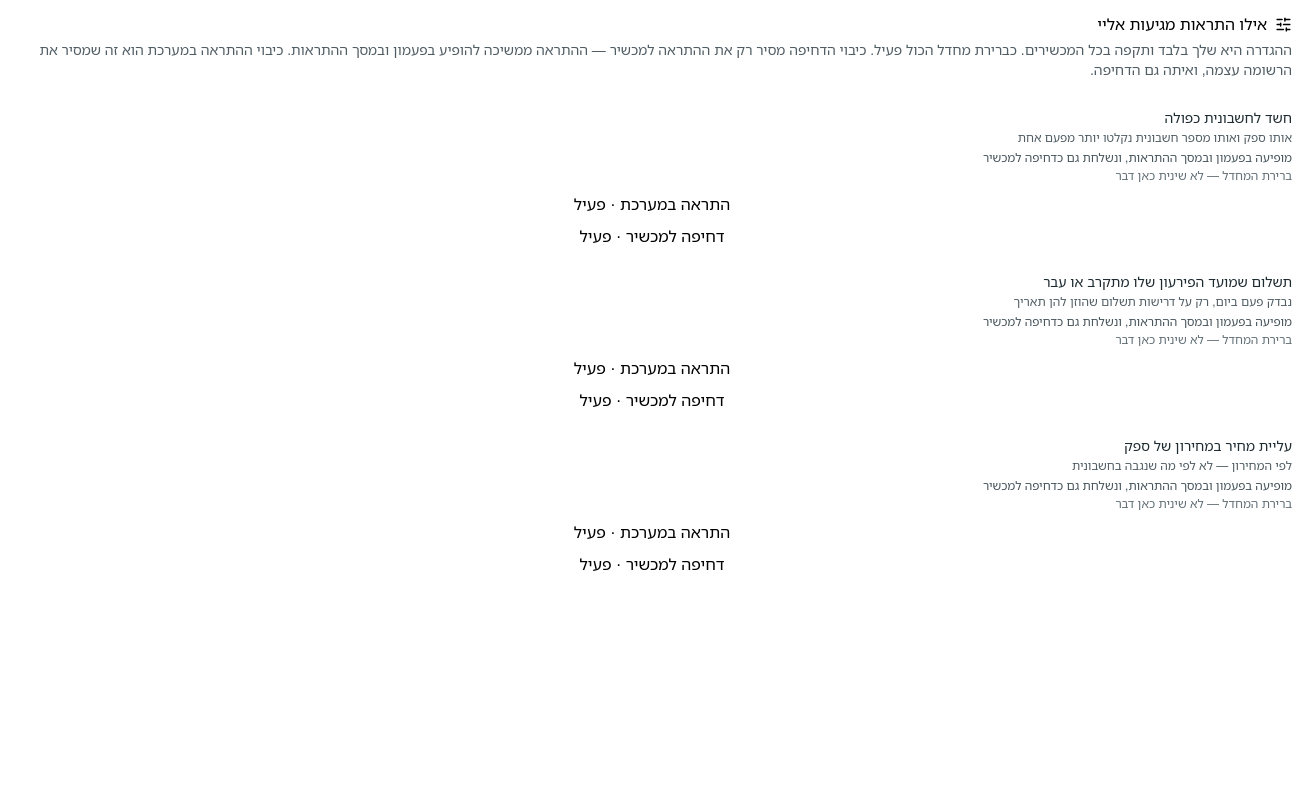
Scenario: NotificationMatrix — per-event delivery preferences (migration 0068) › reports a rejected write in Hebrew and leaves the switch where it was
This screenshot has width=1304, height=812.
Check: the text "חשד לחשבונית כפולה" is shown, box [1165, 108, 1292, 127]
Step 1. Click the switch labelled "דחיפה למכשיר · פעיל" below "חשד לחשבונית כפולה" → x=652, y=236, box [12, 224, 1292, 248]
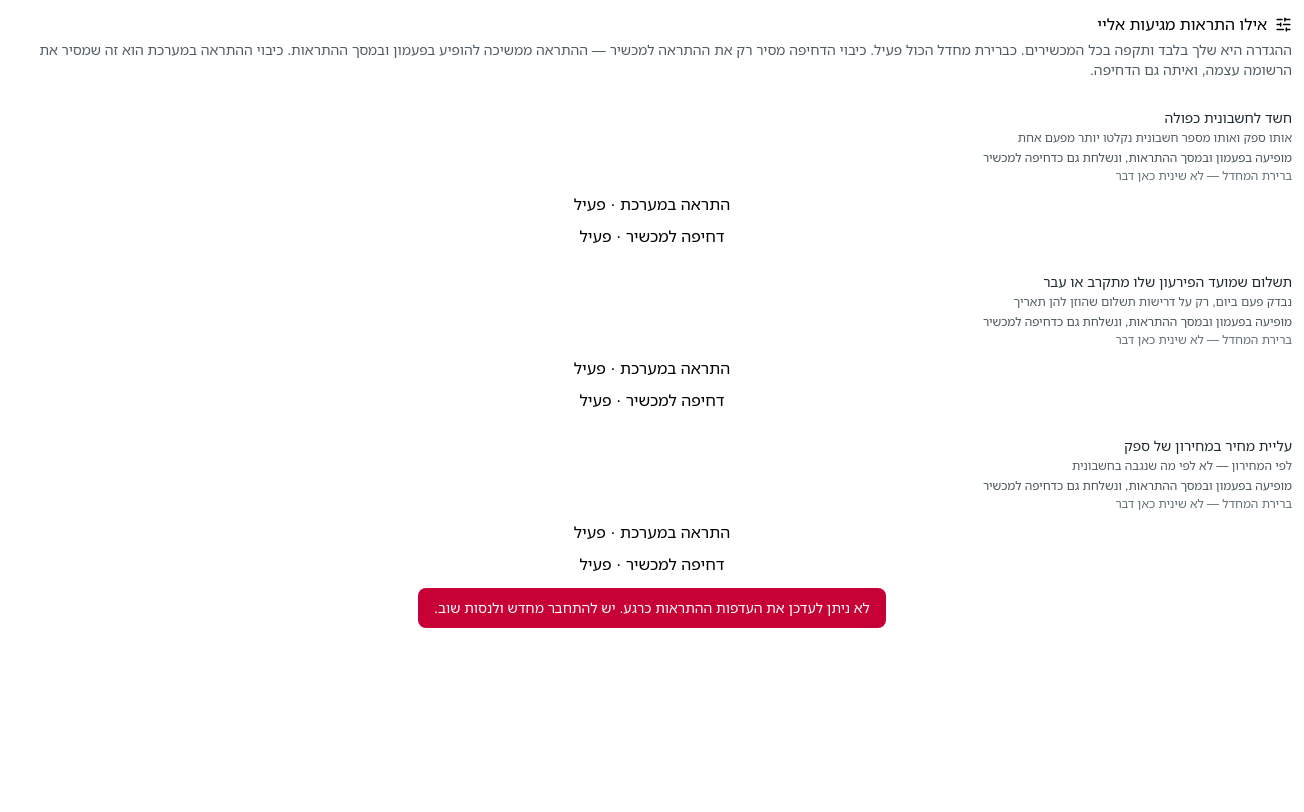
Check: the text "לא ניתן לעדכן את העדפות ההתראות כרגע. יש להתחבר מחדש ולנסות שוב." is shown, box [434, 598, 870, 618]
